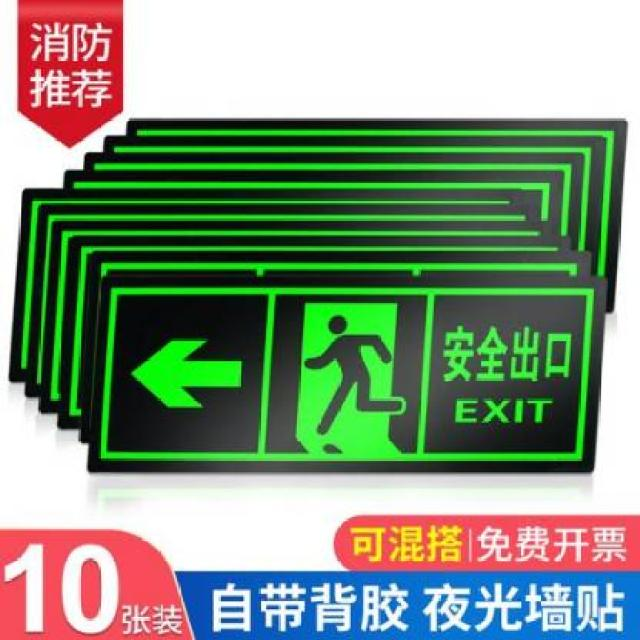exit_sign: (91, 271, 616, 489)
